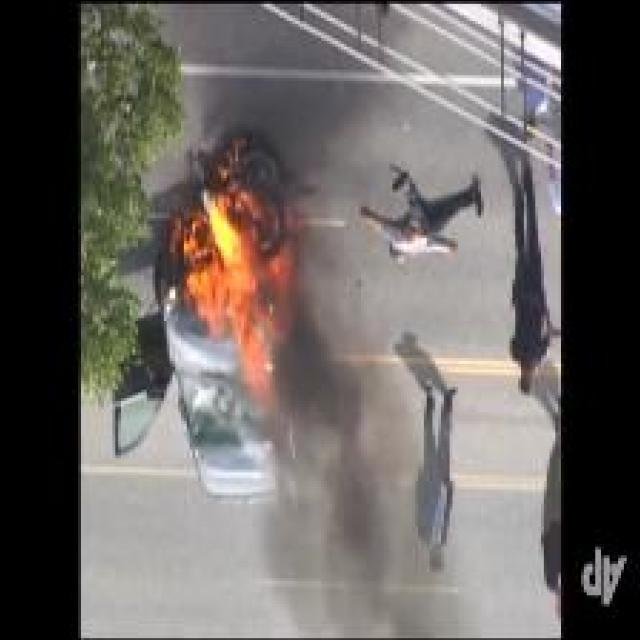Fire: (180, 183, 289, 403)
